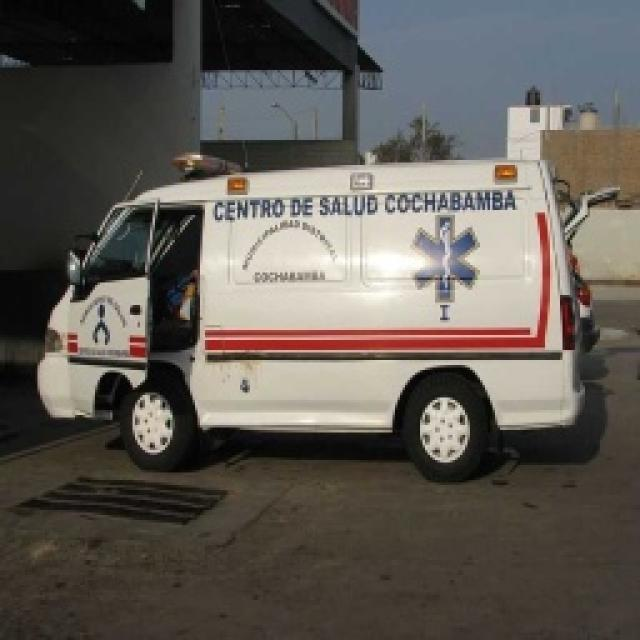ambulance: (62, 155, 600, 475), (2, 0, 170, 65), (210, 0, 358, 70)
